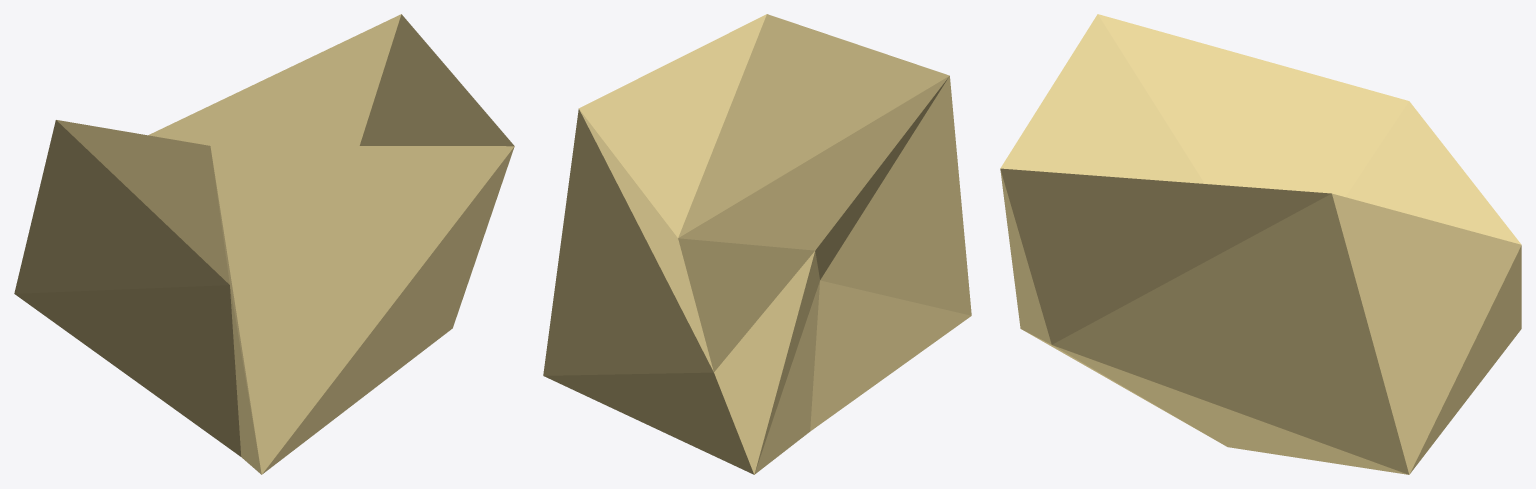
The model's file is papier.fbx.
3 views of the same model, side by side, from view 1: azimuth 30°, elevation 25°; view 2: azimuth 150°, elevation 25°; view 3: azimuth 270°, elevation 25° (orthographic). The views are drawn at different scales.
Visible parts, largest first — view 1: Icosphere; view 2: Icosphere; view 3: Icosphere.
Part boxes in pixels (x1=…): Icosphere: x1=14, y1=14, x2=514, y2=474; Icosphere: x1=543, y1=14, x2=971, y2=474; Icosphere: x1=1000, y1=14, x2=1521, y2=474.
Bounding box in the file's own units: 105 × 123 × 151.
